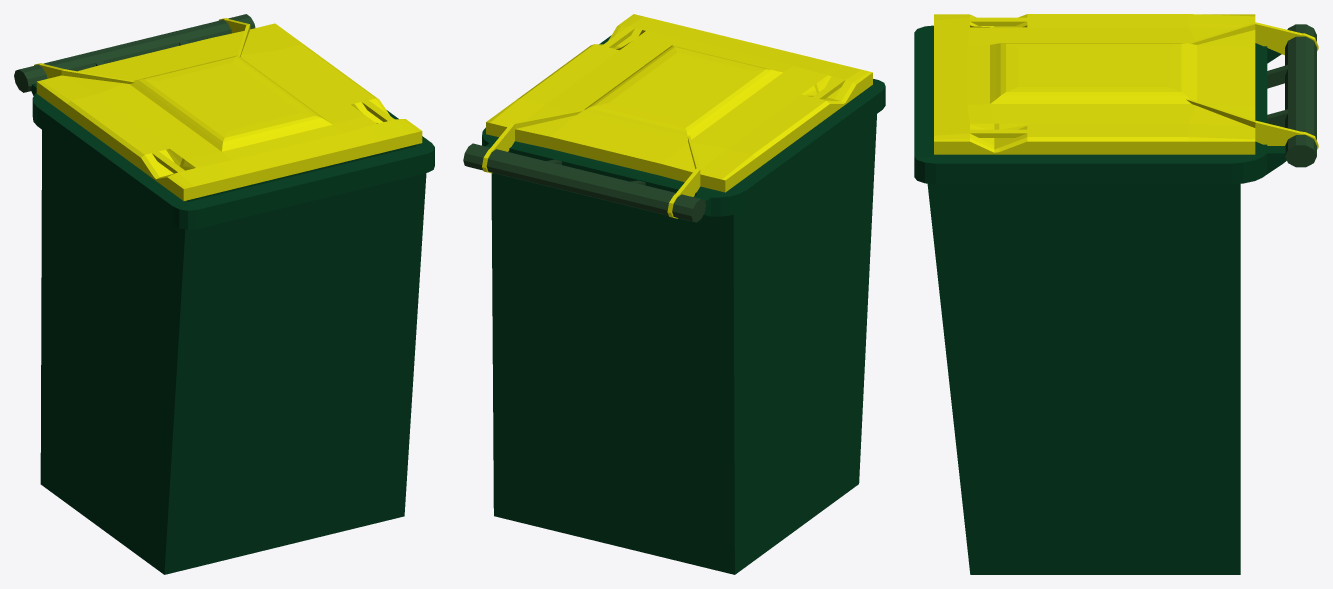
File: bin (3).fbx
The picture shows the model from 3 angles, left to right: view 1: azimuth 30°, elevation 25°; view 2: azimuth 150°, elevation 25°; view 3: azimuth 270°, elevation 25°; orthographic projection. The views are drawn at different scales.
Visible parts, largest first — view 1: Main bin, Main bin.001, Handle; view 2: Main bin, Main bin.001, Handle; view 3: Main bin, Main bin.001, Handle.
Part boxes in pixels (x1,y1,x2,y2): Main bin: (31, 83, 434, 574); Main bin.001: (34, 18, 422, 200); Handle: (14, 14, 255, 92); Main bin: (482, 35, 885, 574); Main bin.001: (482, 14, 872, 218); Handle: (463, 143, 705, 222); Main bin: (914, 25, 1286, 574); Main bin.001: (934, 14, 1318, 154); Handle: (1267, 24, 1316, 167).
Size of the model in its own units: 285 by 428 by 353.
